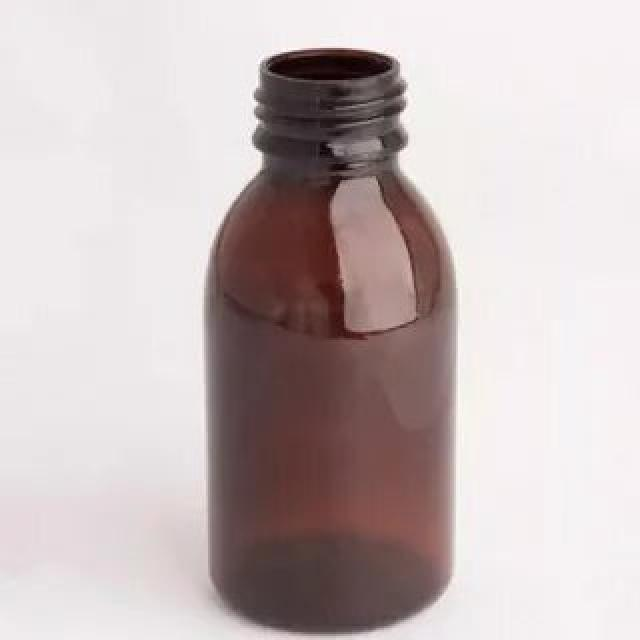brown: (202, 50, 453, 635)
